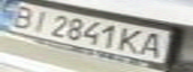1: (96, 22, 121, 50)
2: (42, 11, 72, 39)
4: (81, 19, 103, 47)
8: (63, 16, 87, 43)
A: (136, 30, 172, 59)
B: (3, 2, 42, 29)
I: (24, 8, 54, 33)
K: (115, 26, 148, 55)
